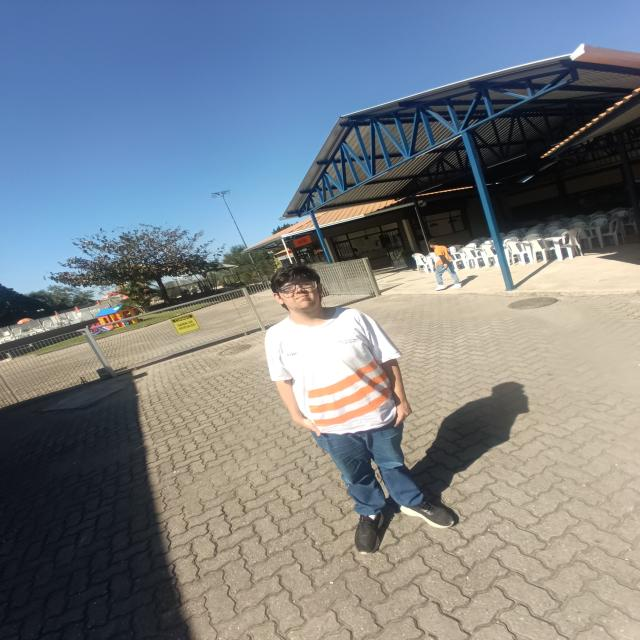oculos-epi: (277, 281, 317, 296)
